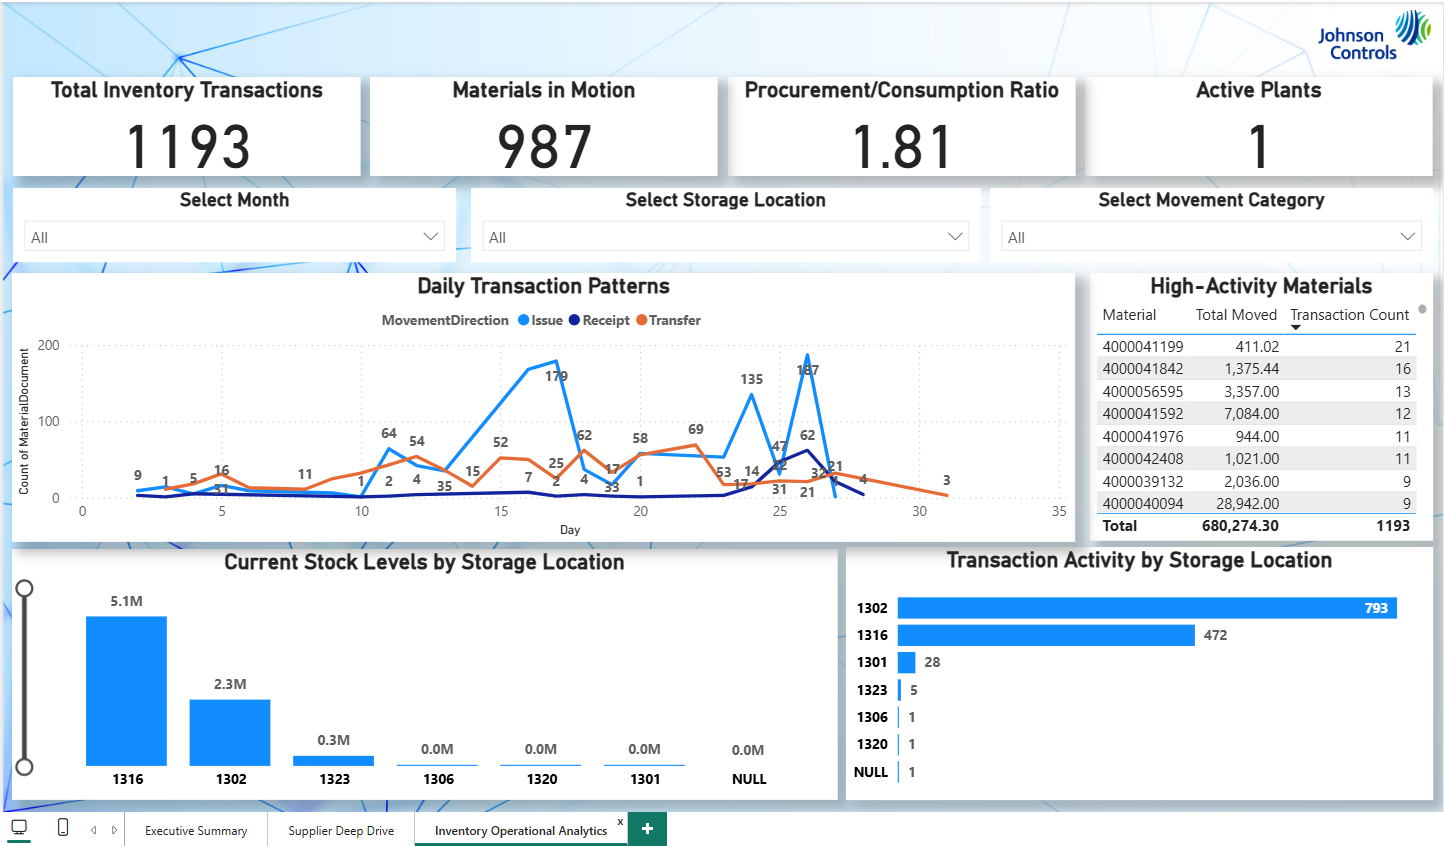

This screenshot's page, from the dashboard's own definition file:
{"tool":"powerbi","page":{"name":"Inventory Operational Analytics","canvas":[1280,720],"ordinal":2},"visuals":[{"type":"image","box":[1158.2,0,121.8,57.8],"z":0},{"type":"card","title":"Active Plants","fields":{"Values":["Count(vw_InventoryMovementAnalysis.Plant)"]},"box":[962.1,66.6,309.3,88.1],"z":1000},{"type":"card","title":"Procurement/Consumption Ratio","fields":{"Values":["vw_InventoryMovementAnalysis.Procurement Ratio"]},"box":[644.3,66.6,309.3,88.1],"z":2000},{"type":"card","title":"Total Inventory Transactions","fields":{"Values":["Count(vw_InventoryMovementAnalysis.MaterialDocument)"]},"box":[8.6,66.6,309.3,88.1],"z":3000},{"type":"card","title":"Materials in Motion","fields":{"Values":["Count(vw_InventoryMovementAnalysis.Material)"]},"box":[326.4,66.6,309.3,88.1],"z":4000},{"type":"clusteredColumnChart","title":"Current Stock Levels by Storage Location","fields":{"Category":["vw_InventoryMovementAnalysis.StorageLocationID"],"Y":["Sum(vw_InventoryMovementAnalysis.TotalCurrentStock)"]},"box":[8.4,486.6,733.7,222.8],"z":5000},{"type":"tableEx","title":"High-Activity Materials","fields":{"Values":["vw_InventoryMovementAnalysis.Material","vw_InventoryMovementAnalysis.Total Moved","vw_InventoryMovementAnalysis.Transaction Count"]},"box":[966.4,240.5,305,238.4],"z":6000},{"type":"clusteredBarChart","title":"Transaction Activity by Storage Location","fields":{"Category":["vw_InventoryMovementAnalysis.StorageLocationID"],"Y":["Count(vw_InventoryMovementAnalysis.MaterialDocument)"]},"box":[749.5,484.8,522.1,224.7],"z":7000},{"type":"lineChart","title":"Daily Transaction Patterns","fields":{"Category":["vw_InventoryMovementAnalysis.PostingDate.Variation.Date Hierarchy.Day"],"Y":["CountNonNull(vw_InventoryMovementAnalysis.MaterialDocument)"],"Series":["vw_InventoryMovementAnalysis.MovementDirection"]},"box":[8.4,240.5,945.3,238.7],"z":8000},{"type":"slicer","title":"Select Month","fields":{"Values":["vw_InventoryMovementAnalysis.PostingDate.Variation.Date Hierarchy.Month"]},"box":[8.6,165.4,394.1,65.5],"z":9000},{"type":"slicer","title":"Select Storage Location","fields":{"Values":["vw_InventoryMovementAnalysis.StorageLocationID"]},"box":[415.6,165.4,453.2,65.5],"z":10000},{"type":"slicer","title":"Select Movement Category","fields":{"Values":["vw_InventoryMovementAnalysis.MovementCategory"]},"box":[877.3,165.4,394.1,65.5],"z":11000}]}

Visuals, with their boxes on the page's 1280x720 design canvas (x1, y1, x2, y2). These are canvas units, not pixel positions in the 1444x846 screenshot, which may show the page scaled, cropped or inside an application window:
image: 1158:0:1280:58
"Active Plants" card: 962:67:1271:155
"Procurement/Consumption Ratio" card: 644:67:954:155
"Total Inventory Transactions" card: 9:67:318:155
"Materials in Motion" card: 326:67:636:155
"Current Stock Levels by Storage Location" clusteredColumnChart: 8:487:742:709
"High-Activity Materials" tableEx: 966:240:1271:479
"Transaction Activity by Storage Location" clusteredBarChart: 750:485:1272:710
"Daily Transaction Patterns" lineChart: 8:240:954:479
"Select Month" slicer: 9:165:403:231
"Select Storage Location" slicer: 416:165:869:231
"Select Movement Category" slicer: 877:165:1271:231
